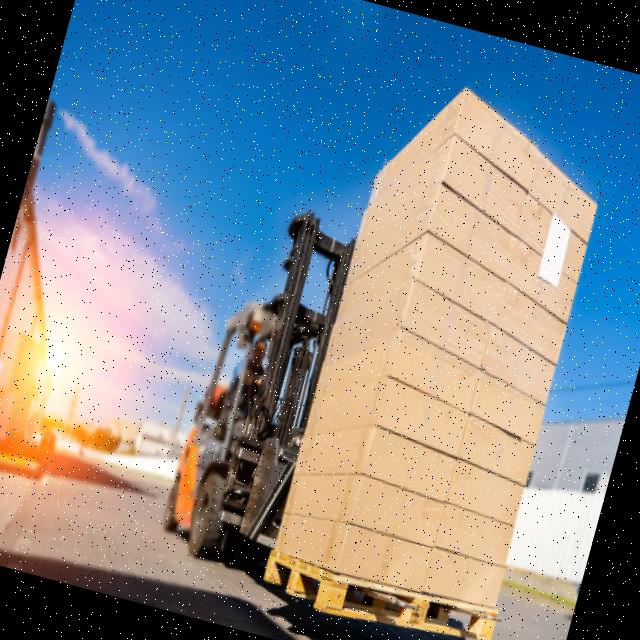Wooden-Pallets: (259, 549, 504, 640)
